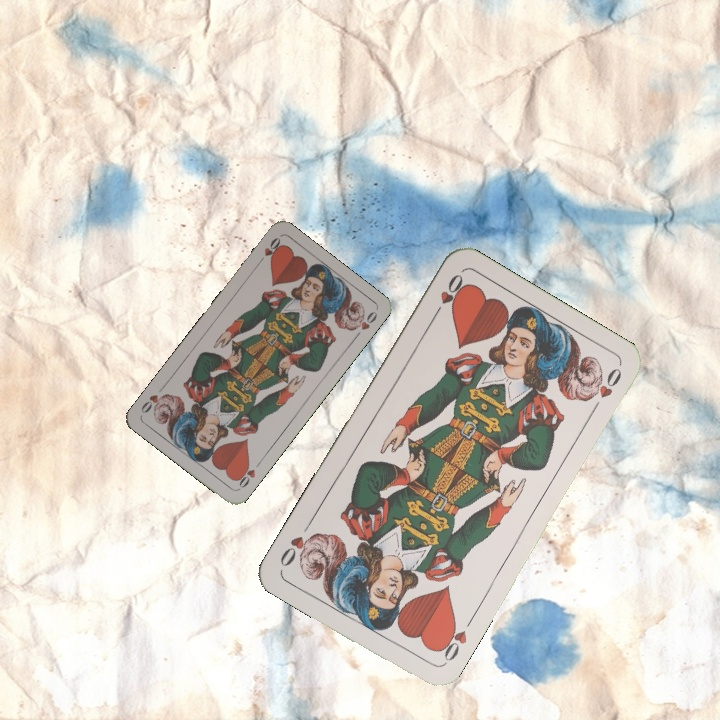HO: (428, 269, 466, 322), (433, 617, 470, 667), (232, 457, 264, 492), (253, 233, 284, 268)
